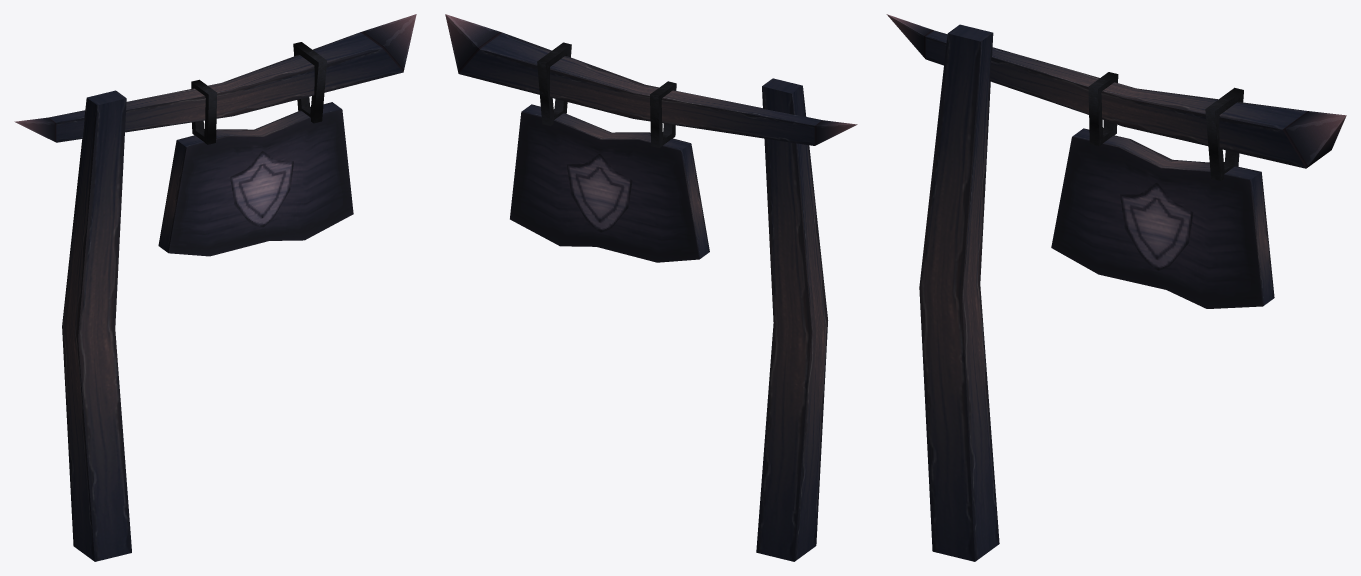
File: Sign_Shield.fbx
The picture shows the model from 3 angles, left to right: view 1: azimuth 30°, elevation 25°; view 2: azimuth 150°, elevation 25°; view 3: azimuth 330°, elevation 25°; orthographic projection. The views are drawn at different scales.
Parts seen in each view (by area): view 1: Sign_Shield; view 2: Sign_Shield; view 3: Sign_Shield.
Part boxes in pixels (x1,y1,x2,y2): Sign_Shield: (14, 14, 416, 561); Sign_Shield: (445, 14, 857, 561); Sign_Shield: (886, 14, 1346, 561).
Bounding box in the file's own units: 108 × 115 × 15.24.
1 material, 1 textured.
